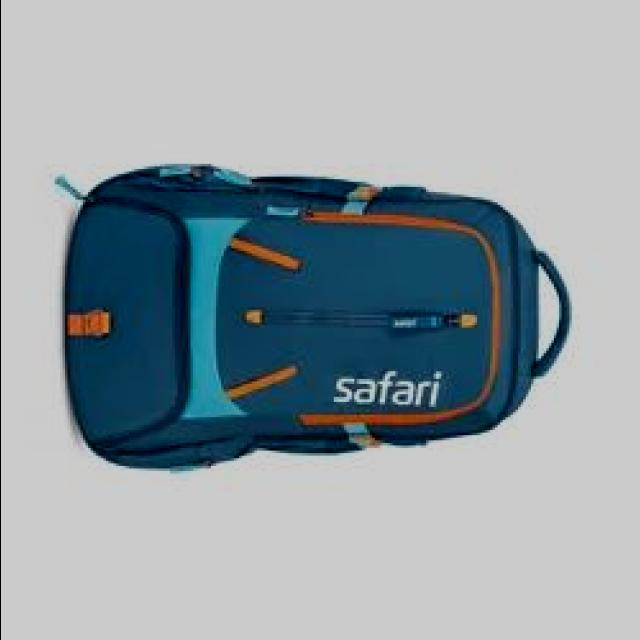backpack: (58, 162, 575, 472)
